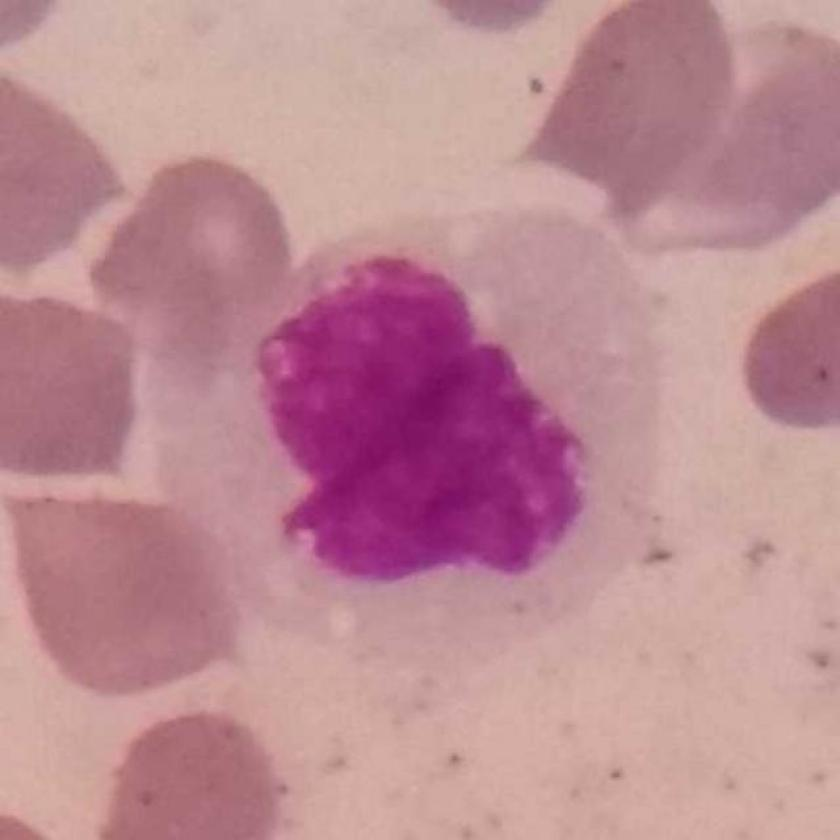monocyte: (134, 201, 686, 675)
